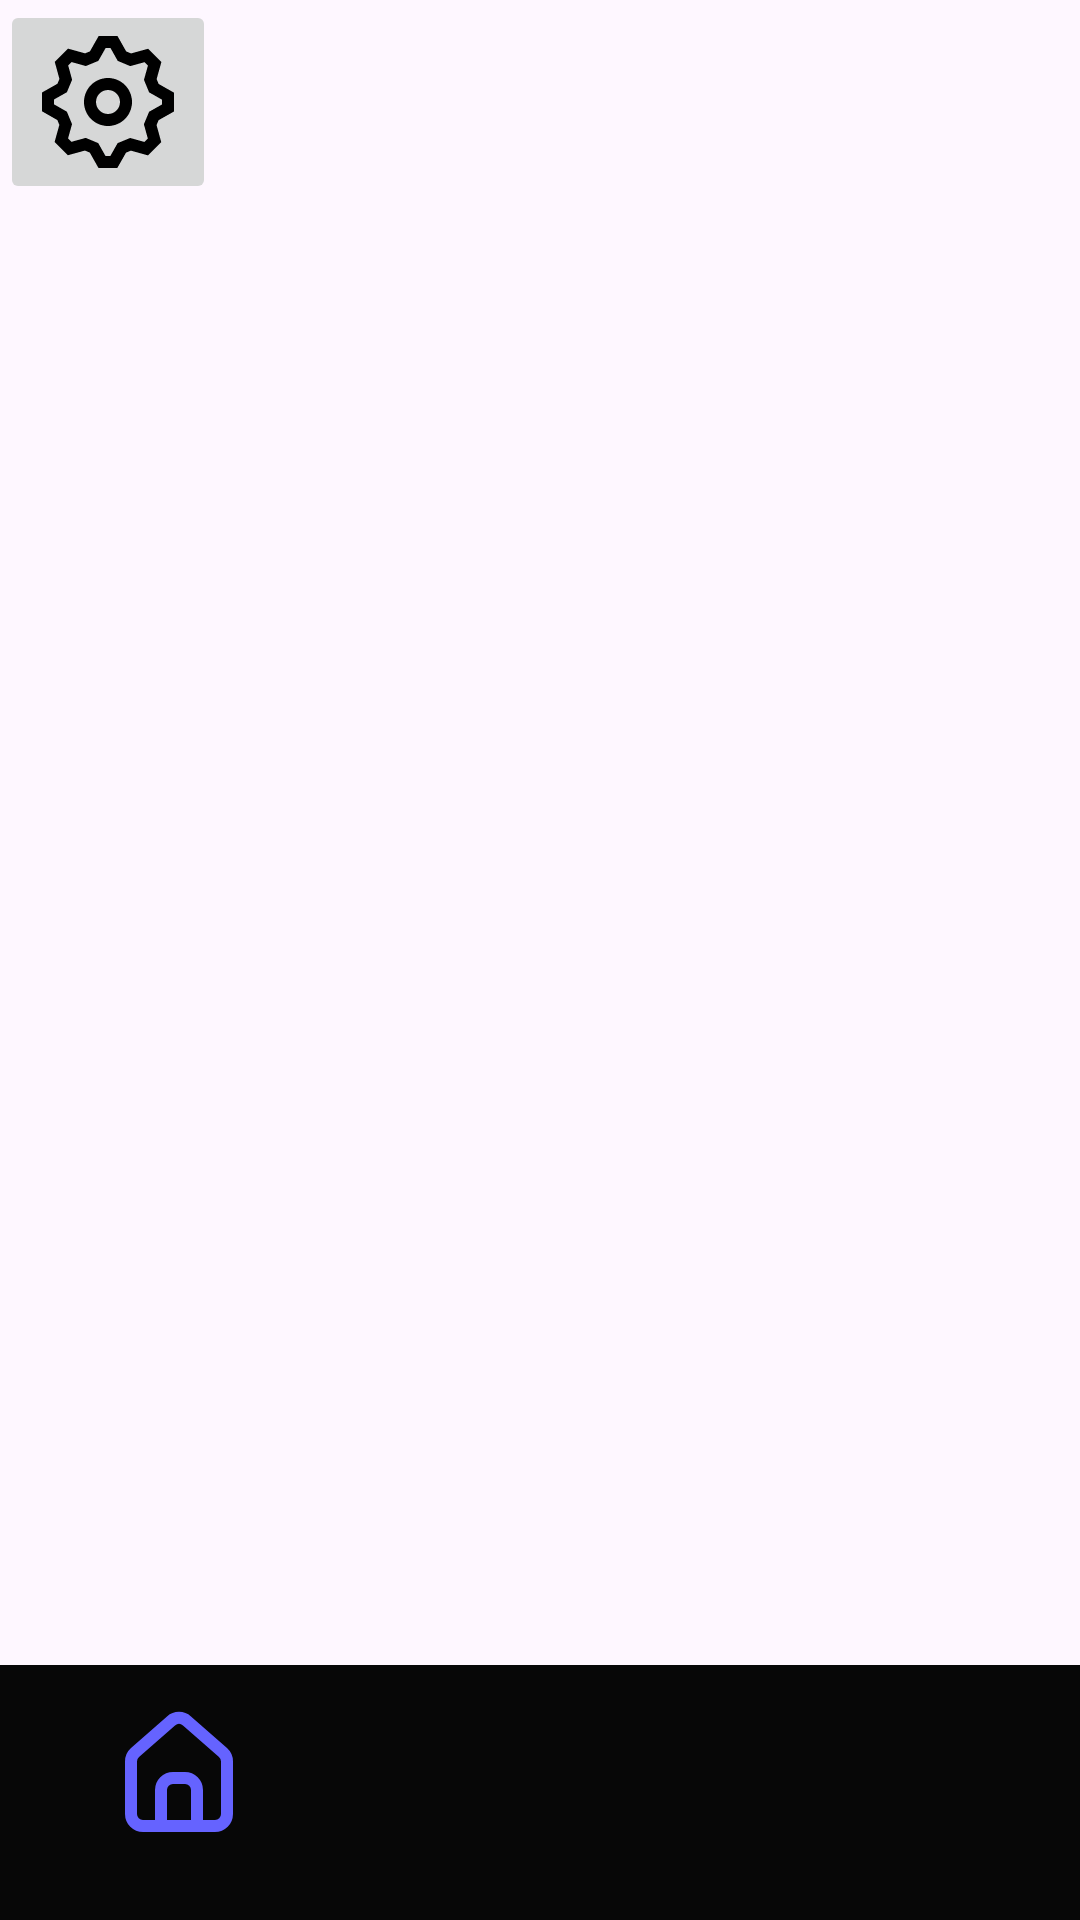

Where icons sit on this 1080*1920 app screen, as [x1, y1, x2, y2]:
home: [125, 1711, 233, 1832]
settings: [12, 18, 204, 186]
